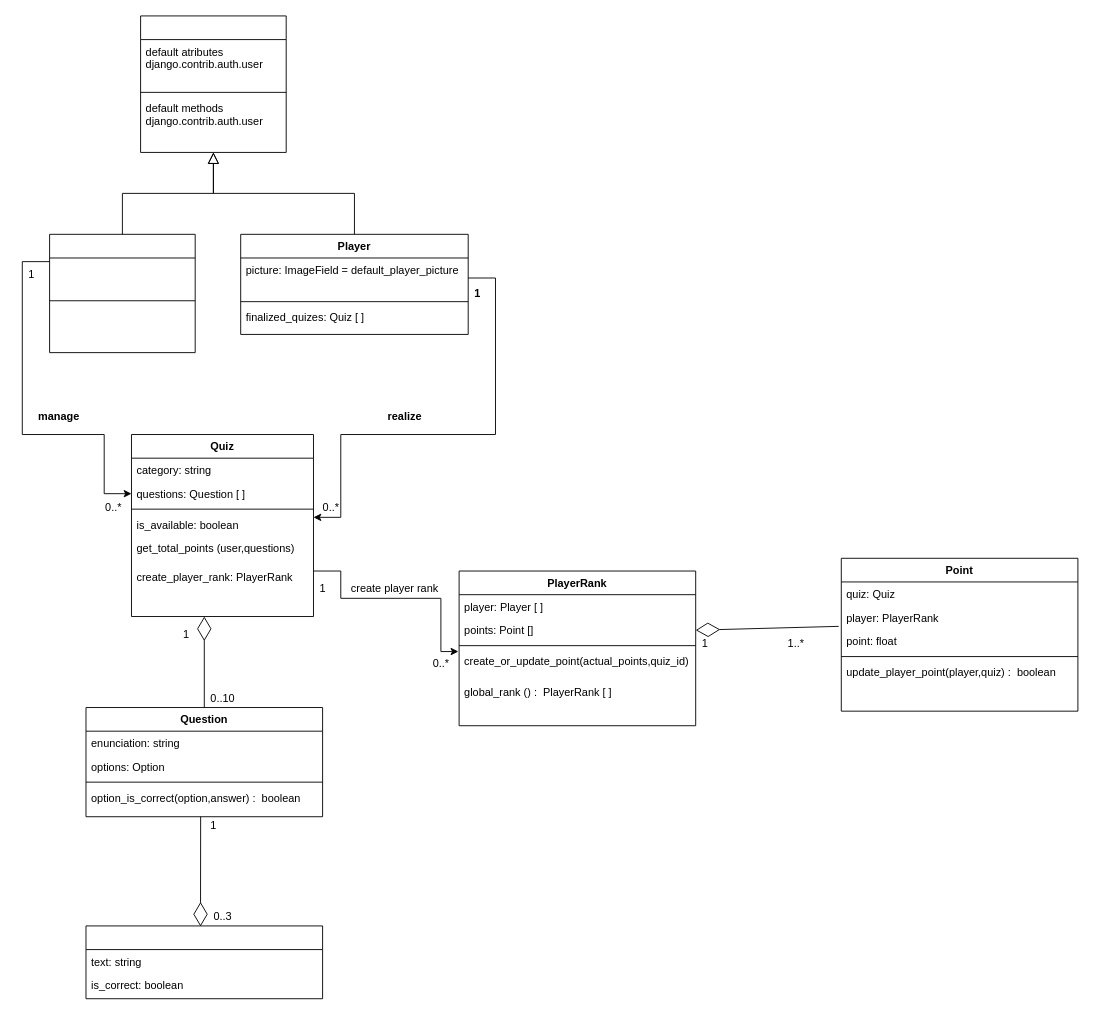
This 1094x1016 diagram has some shape labels left out. Each missing label, with the box of its shape:
Admin: (49, 233, 195, 353)
Option: (85, 925, 323, 999)
User_Abstract: (140, 15, 286, 152)
